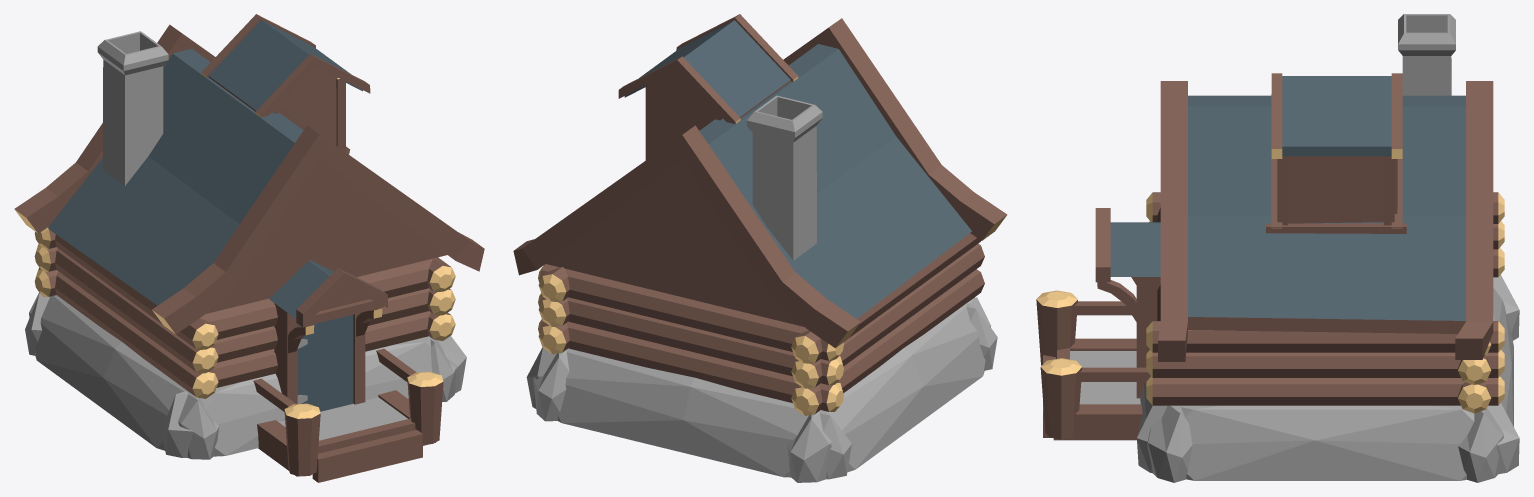
Rendered from House.fbx.
3 renders of one model, left to right at view 1: azimuth 30°, elevation 25°; view 2: azimuth 150°, elevation 25°; view 3: azimuth 270°, elevation 25°, orthographic. The views are drawn at different scales.
Parts seen in each view (by area): view 1: House; view 2: House; view 3: House.
Part boxes in pixels (<box>): House: <box>14,14,484,482</box>; House: <box>513,14,1007,482</box>; House: <box>1036,14,1519,482</box>.
Bounding box in the file's own units: 6.03 × 5.88 × 7.12.
